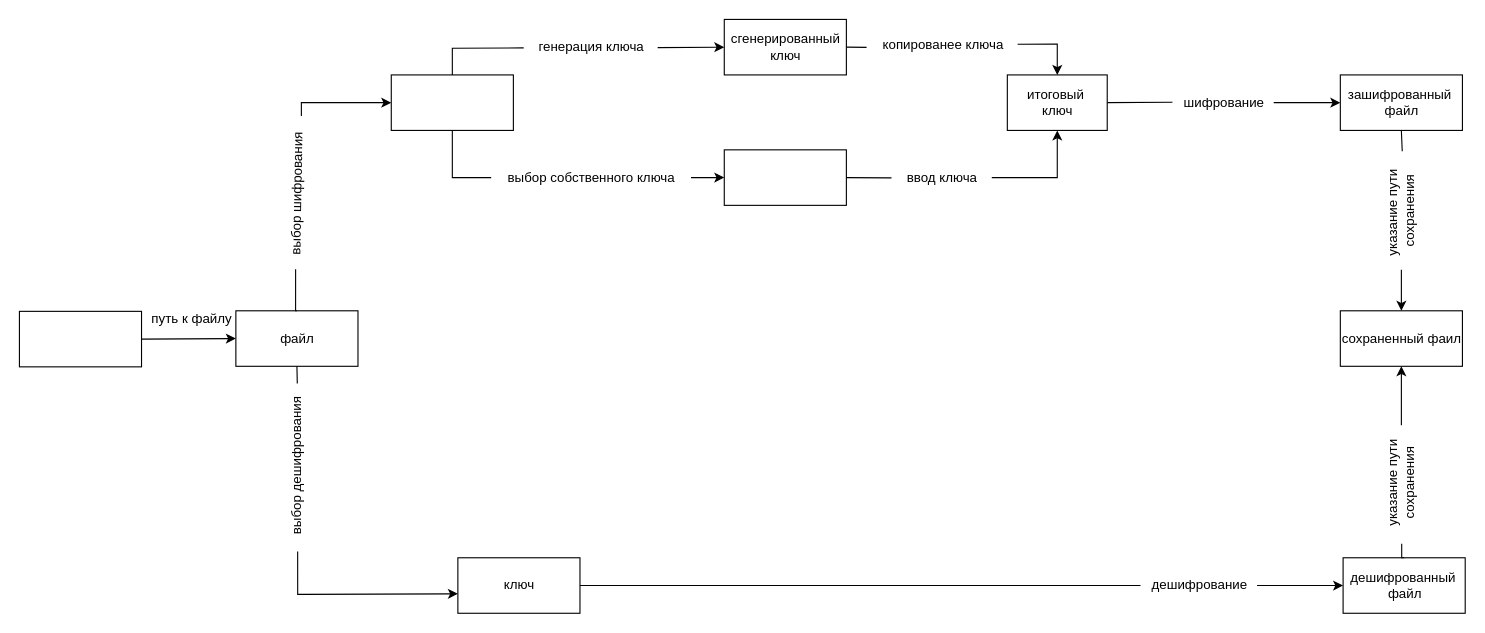
Image size: 1485x633. Some labels were removed from this diagram. The shapes that lost their labels are listed below. From the top down, each one's box as (x1, y1, x2, y2) in pixels, then its label:
(390, 74, 513, 130): выбор ключа
(723, 149, 846, 205): собственный ключ
(18, 310, 142, 367): пользователь 1
